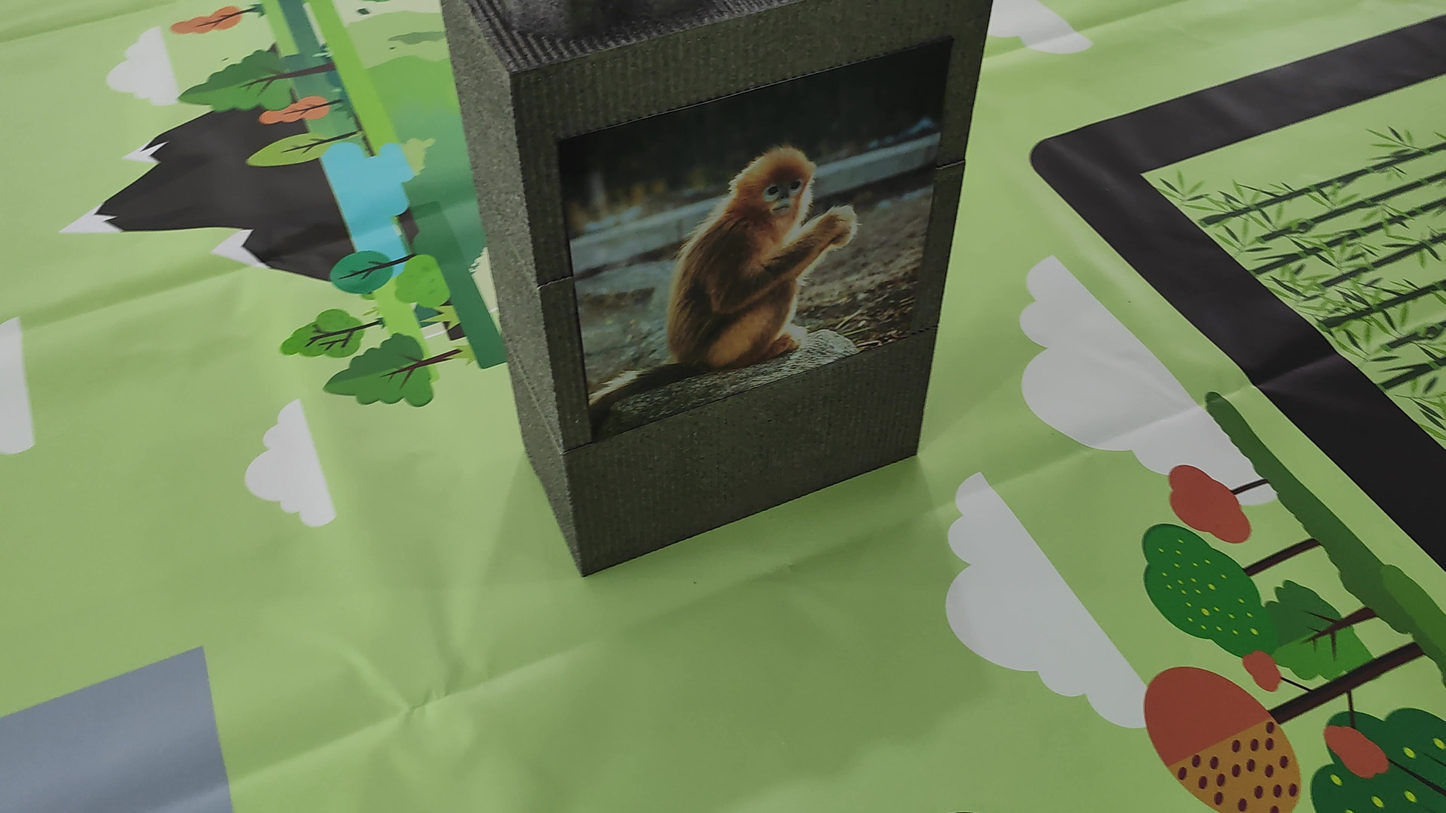monkey: (630, 110, 925, 386)
